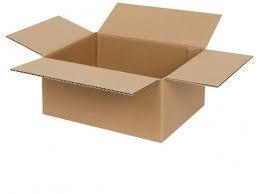box: (4, 3, 254, 143)
